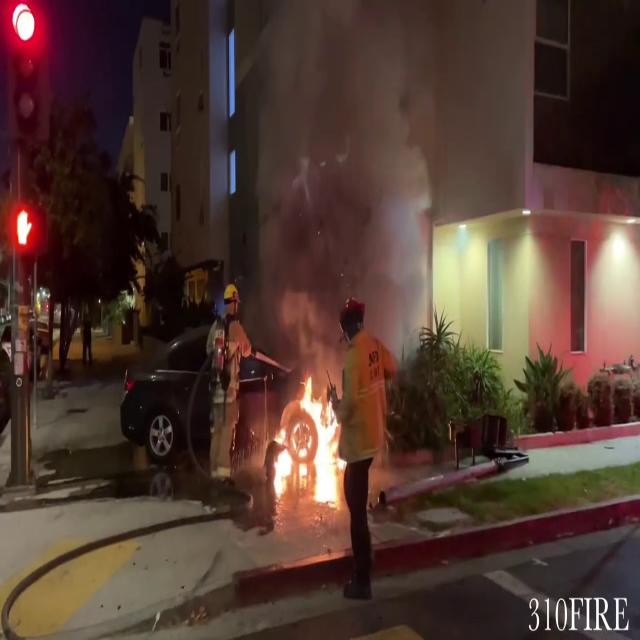Fire: (264, 371, 348, 527)
Smoke: (243, 3, 522, 346)
